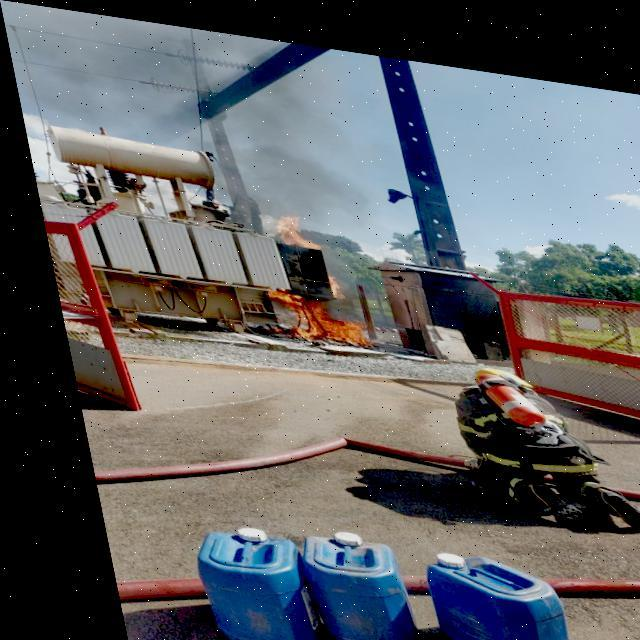Fire: (253, 286, 364, 338), (258, 202, 314, 244), (316, 264, 338, 289)
